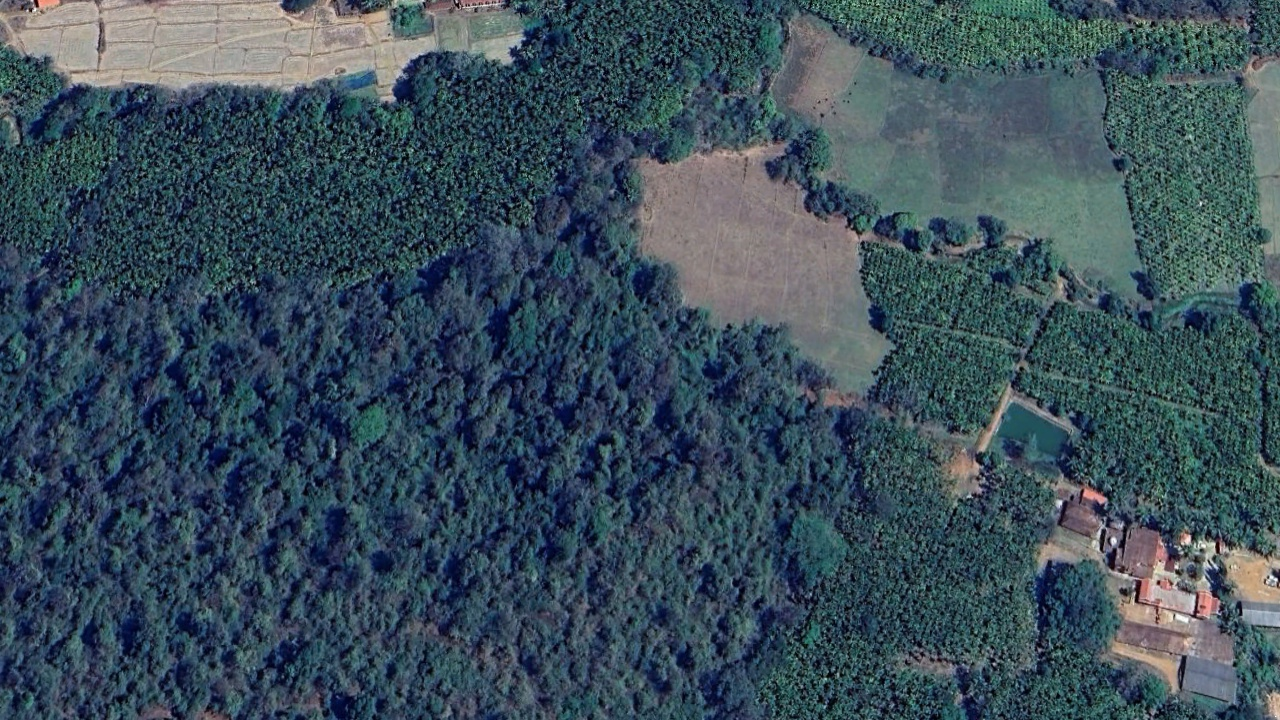arecanut: (1, 1, 753, 296), (776, 425, 1138, 720), (1032, 286, 1276, 503), (1103, 71, 1274, 301), (860, 243, 1026, 438), (801, 2, 1122, 77)
